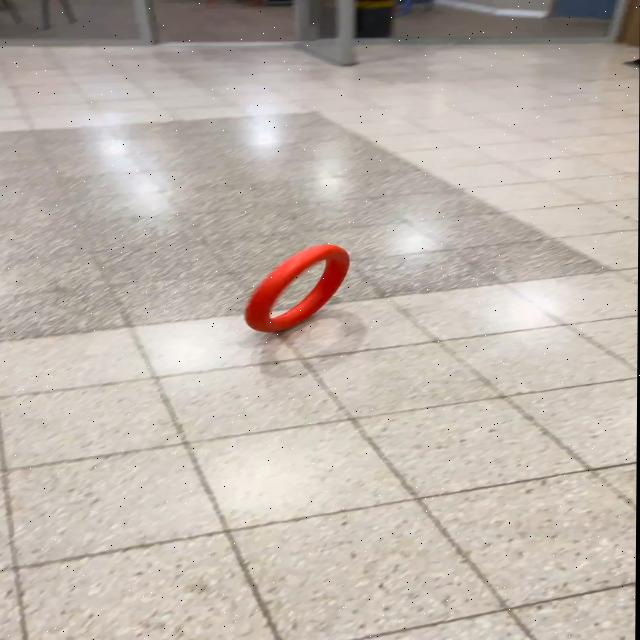note: (242, 242, 355, 335)
